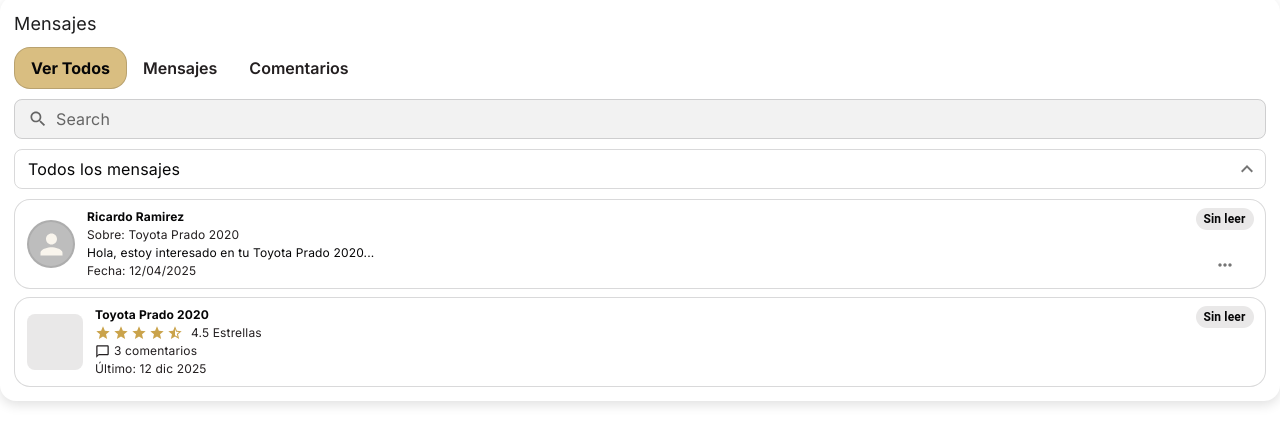
Scenario: filters the list by search text
Type "zzz" into the field with placeholder "Search" at coordinates (661, 119), box x1=56 y1=99 x2=1266 y2=139
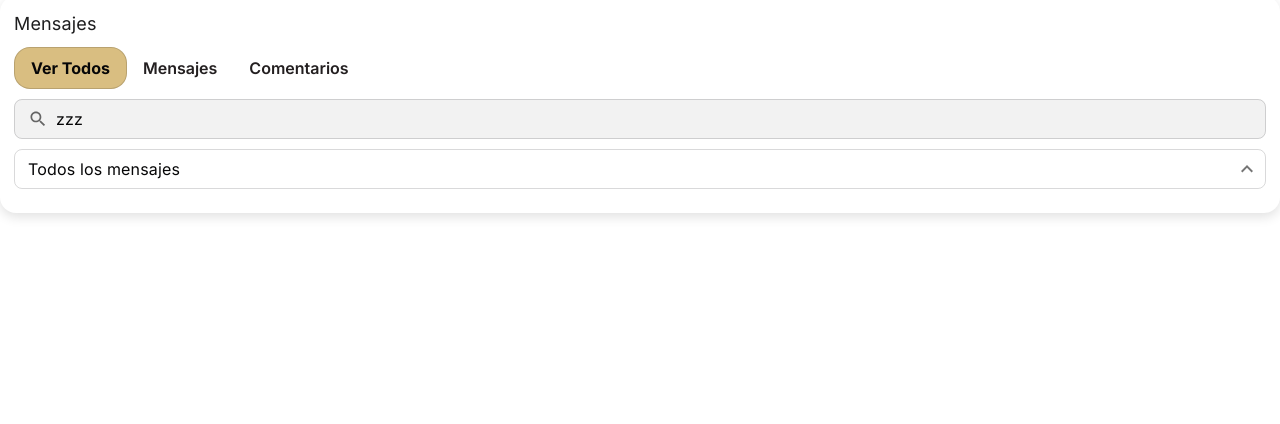
expect the text "Ricardo Ramirez" is gone: met
